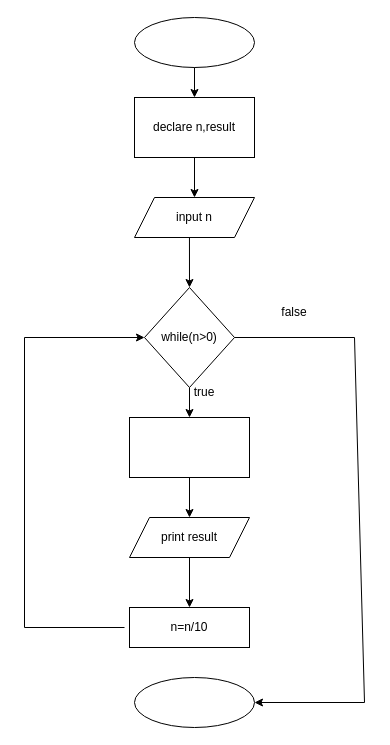
The diagram is 390 pixels wide and 745 high, and some of its shapes have lost their labels. The box of each missing label's shape, as (x1, y1, x2, y2) in pixels:
result=n%10: (128, 416, 250, 478)
start: (134, 16, 254, 68)
stop: (134, 676, 254, 728)
